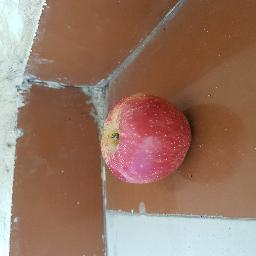Good_apple: (102, 95, 192, 182)
